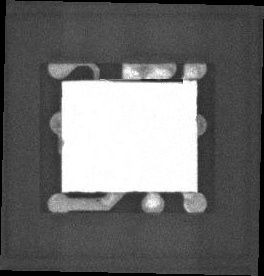DIE_BROKEN: (112, 76, 185, 84)
